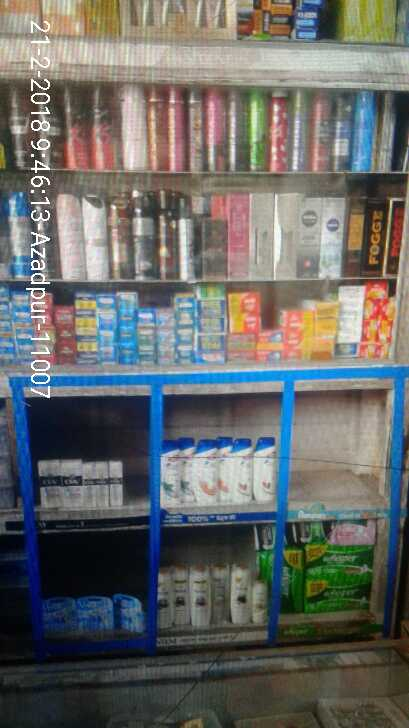venus: (75, 596, 115, 629), (44, 596, 75, 634), (115, 592, 144, 629)
